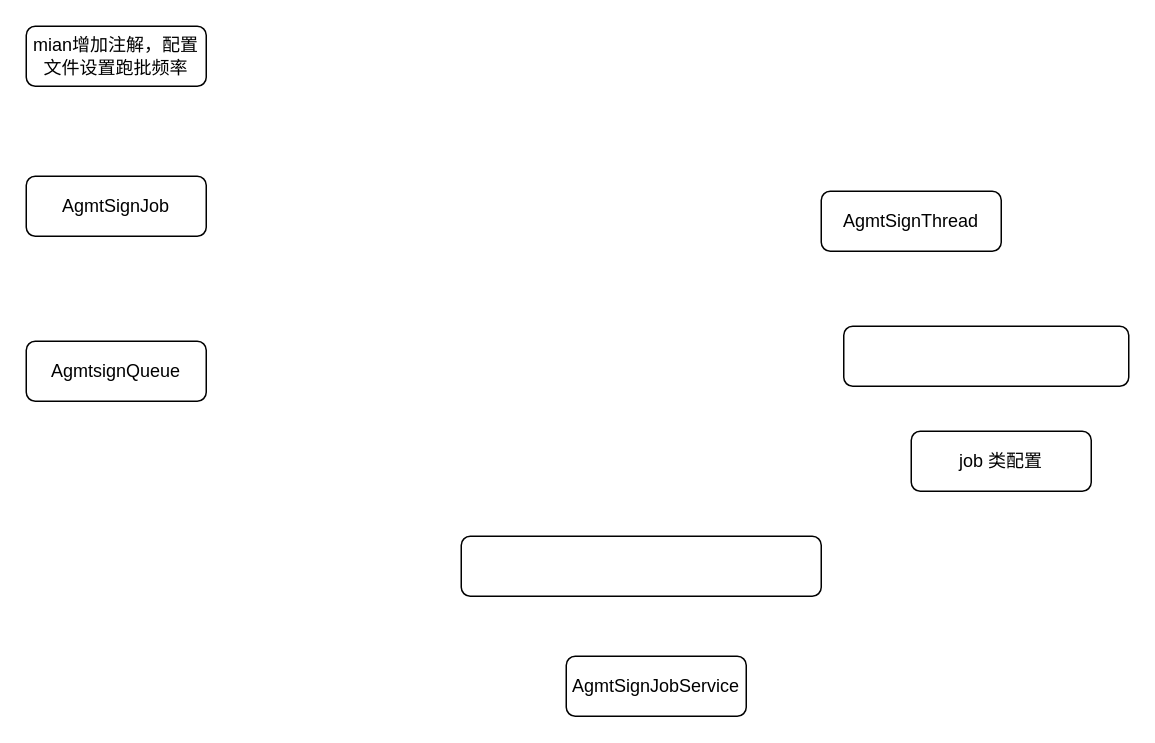
This 1155x743 diagram has some shape labels left out. The shapes that lost their labels are listed below. From the top down, each one's box as (x1, y1, x2, y2) in pixels, then its label:
(842, 325, 1129, 386): AgmtSignTriggerAndSchedule
(460, 535, 821, 596): AgmtSignJobInitThreadAndResetData
